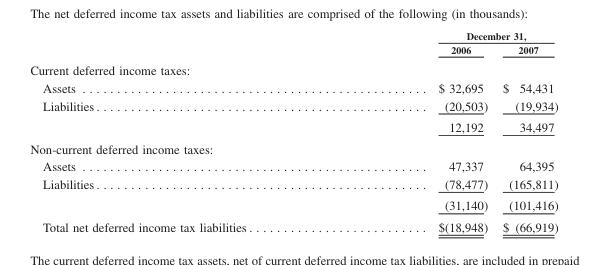table: (29, 29, 557, 233)
table column: (29, 29, 344, 233), (344, 29, 494, 233), (494, 29, 557, 233)
table column header: (29, 29, 557, 58)
table projected row header: (29, 58, 557, 78), (29, 137, 557, 157)
table row: (29, 116, 557, 137), (29, 194, 557, 215), (29, 58, 557, 78), (29, 96, 557, 116), (29, 137, 557, 157), (29, 174, 557, 194), (29, 78, 557, 96), (29, 215, 557, 233), (29, 157, 557, 174), (29, 42, 557, 58), (29, 29, 557, 42)
table spanning cell: (344, 29, 557, 42)
